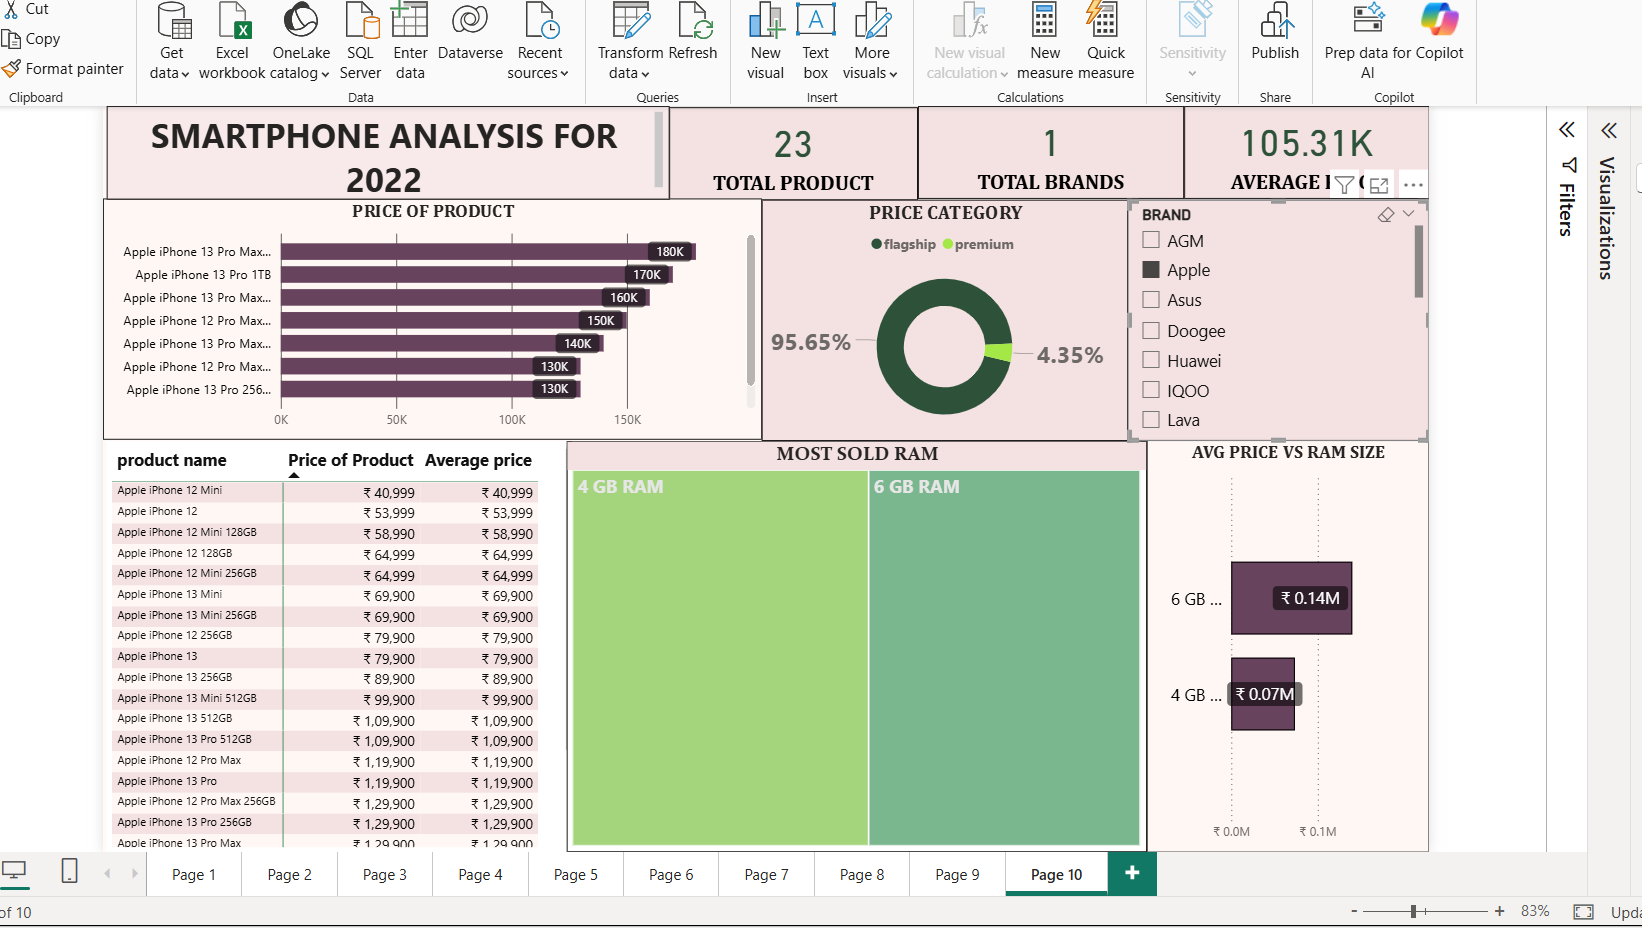

What the dashboard file says about the page in this screenshot:
{"tool":"powerbi","page":{"name":"Page 10","canvas":[1280,720],"ordinal":9},"visuals":[{"type":"card","fields":{"Values":["CountNonNull(mysmartprice.product name)"]},"box":[546.5,1.2,240.1,89.3],"z":0},{"type":"card","fields":{"Values":["Count(mysmartprice.brand)"]},"box":[786.6,0,257,89.3],"z":1000},{"type":"card","fields":{"Values":["mysmartprice.avgpop"]},"box":[1043.6,0,236.5,89.3],"z":2000},{"type":"barChart","title":"PRICE OF PRODUCT","fields":{"Category":["mysmartprice.product name"],"Y":["Max(mysmartprice.Price of product(available))"]},"box":[0,89.3,635.8,232.8],"z":3000},{"type":"pivotTable","fields":{"Rows":["mysmartprice.product name"],"Values":["Sum(mysmartprice.Price of product(available))","mysmartprice.avgpop"]},"box":[3.6,323.3,456,396.9],"z":4000},{"type":"slicer","fields":{"Values":["mysmartprice.brand"]},"box":[989.3,90.5,290.8,232.8],"z":5000},{"type":"donutChart","title":"PRICE CATEGORY ","fields":{"Y":["CountNonNull(mysmartprice.product name)"],"Category":["mysmartprice.price_cat"]},"box":[635.8,90.5,353.5,232.8],"z":6000},{"type":"barChart","title":"AVG PRICE VS RAM SIZE","fields":{"Category":["mysmartprice.ram of phone"],"Y":["Avg(mysmartprice.pop)"]},"box":[1007.4,322.1,272.7,398.1],"z":7000},{"type":"treemap","title":"MOST SOLD RAM","fields":{"Group":["mysmartprice.ram of phone"],"Values":["CountNonNull(mysmartprice.brand)"]},"box":[447.6,323.3,559.8,396.9],"z":8000},{"type":"textbox","box":[3.6,0,542.9,90.5],"z":9000}]}

Visuals, with their boxes on the page's 1280x720 design canvas (x1, y1, x2, y2). These are canvas units, not pixel positions in the 1642x928 screenshot, which may show the page scaled, cropped or inside an application window:
card - CountNonNull(mysmartprice.product name): (left=546, top=1, right=787, bottom=90)
card - Count(mysmartprice.brand): (left=787, top=0, right=1044, bottom=89)
card - mysmartprice.avgpop: (left=1044, top=0, right=1280, bottom=89)
"PRICE OF PRODUCT" barChart: (left=0, top=89, right=636, bottom=322)
pivotTable - mysmartprice.product name x Sum(mysmartprice.Price of product(available)): (left=4, top=323, right=460, bottom=720)
slicer - mysmartprice.brand: (left=989, top=90, right=1280, bottom=323)
"PRICE CATEGORY " donutChart: (left=636, top=90, right=989, bottom=323)
"AVG PRICE VS RAM SIZE" barChart: (left=1007, top=322, right=1280, bottom=720)
"MOST SOLD RAM" treemap: (left=448, top=323, right=1007, bottom=720)
textbox: (left=4, top=0, right=546, bottom=90)
